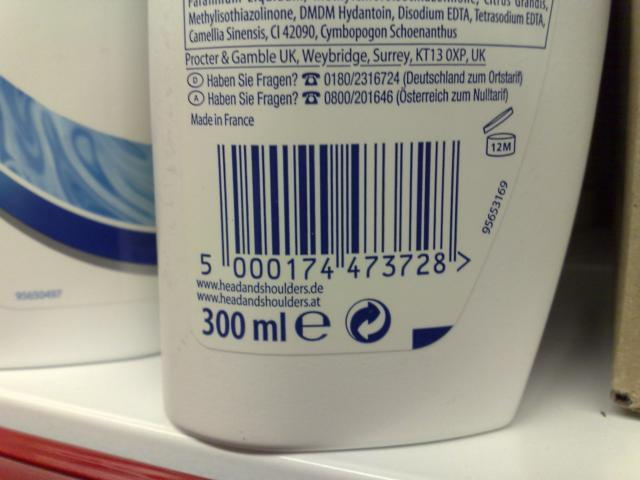Barcode: (193, 137, 477, 283)
